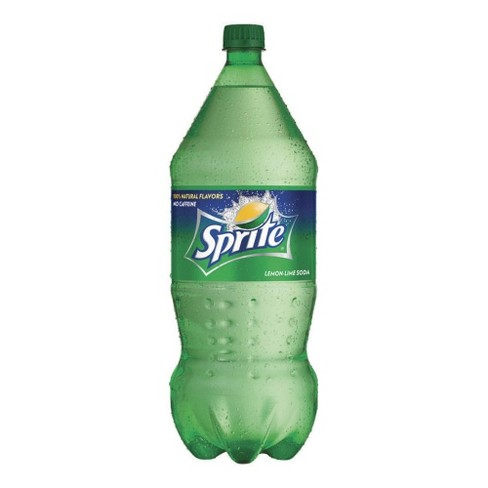sprite: (193, 208, 283, 263)
